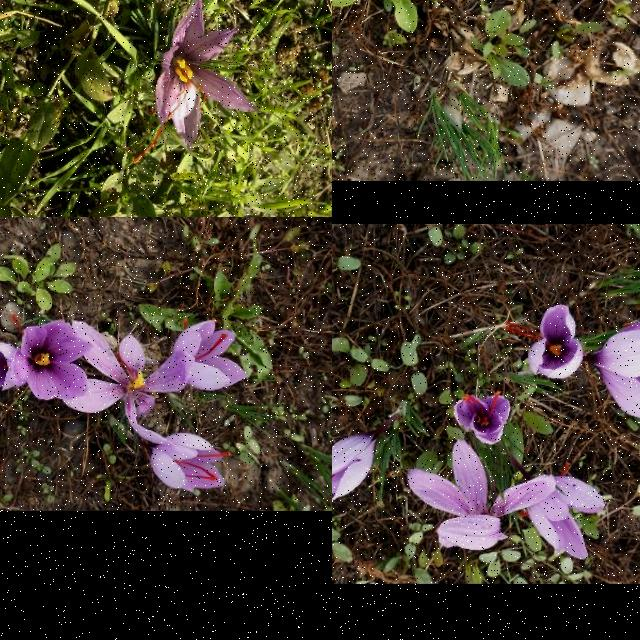flower: (130, 0, 261, 165), (62, 320, 196, 450), (408, 440, 556, 550), (517, 463, 605, 559), (11, 313, 95, 401), (504, 305, 584, 379), (172, 318, 248, 392), (150, 432, 232, 493), (593, 320, 640, 419), (332, 430, 379, 502), (454, 391, 511, 445), (0, 342, 27, 392)
